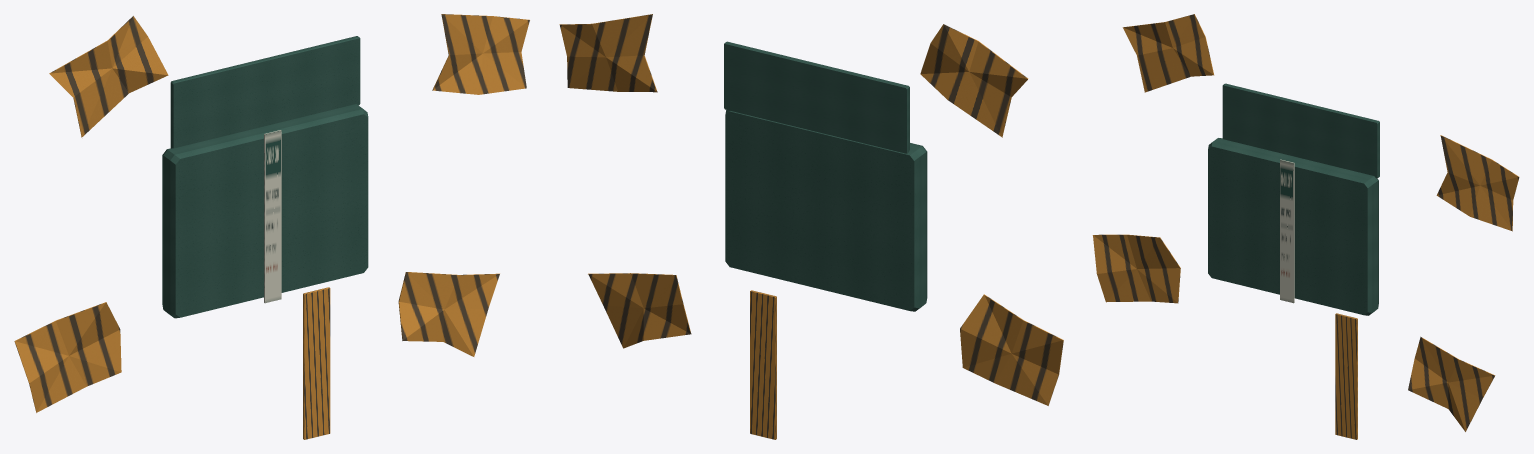
The model's file is PZ_DST_05_Flattened_Cardboard_And_Paper.glb.
The picture shows the model from 3 angles, left to right: view 1: azimuth 30°, elevation 25°; view 2: azimuth 150°, elevation 25°; view 3: azimuth 330°, elevation 25°; orthographic projection. The views are drawn at different scales.
Parts seen in each view (by area): view 1: LITTER_Cardboard_SquashedShippingBox_Base, LITTER_Cardboard_SeparatedTornTopFlap, LITTER_Paper_04_CrumpledFoldedSheet, LITTER_Paper_02_CrumpledFoldedSheet, LITTER_Paper_03_CrumpledFoldedSheet, LITTER_Paper_01_CrumpledFoldedSheet, LITTER_Receipt_ThinRibbon, LITTER_Cardboard_DarkPrintedPackingTape; view 2: LITTER_Cardboard_SquashedShippingBox_Base, LITTER_Cardboard_SeparatedTornTopFlap, LITTER_Paper_04_CrumpledFoldedSheet, LITTER_Paper_02_CrumpledFoldedSheet, LITTER_Paper_03_CrumpledFoldedSheet, LITTER_Paper_01_CrumpledFoldedSheet, LITTER_Receipt_ThinRibbon; view 3: LITTER_Cardboard_SquashedShippingBox_Base, LITTER_Cardboard_SeparatedTornTopFlap, LITTER_Paper_04_CrumpledFoldedSheet, LITTER_Paper_03_CrumpledFoldedSheet, LITTER_Paper_02_CrumpledFoldedSheet, LITTER_Paper_01_CrumpledFoldedSheet, LITTER_Receipt_ThinRibbon, LITTER_Cardboard_DarkPrintedPackingTape.
Boxes of the visible parts, x1,y1,x2,y2 form: LITTER_Cardboard_SquashedShippingBox_Base: (162,104,368,318); LITTER_Cardboard_SeparatedTornTopFlap: (170,36,360,148); LITTER_Paper_04_CrumpledFoldedSheet: (14,302,121,412); LITTER_Paper_02_CrumpledFoldedSheet: (49,16,168,137); LITTER_Paper_03_CrumpledFoldedSheet: (432,14,529,94); LITTER_Paper_01_CrumpledFoldedSheet: (398,272,499,356); LITTER_Receipt_ThinRibbon: (303,287,330,439); LITTER_Cardboard_DarkPrintedPackingTape: (264,130,281,303); LITTER_Cardboard_SquashedShippingBox_Base: (725,110,927,311); LITTER_Cardboard_SeparatedTornTopFlap: (724,41,909,153); LITTER_Paper_04_CrumpledFoldedSheet: (960,294,1063,405); LITTER_Paper_02_CrumpledFoldedSheet: (920,24,1028,137); LITTER_Paper_03_CrumpledFoldedSheet: (559,14,657,92); LITTER_Paper_01_CrumpledFoldedSheet: (588,273,691,348); LITTER_Receipt_ThinRibbon: (750,290,776,439); LITTER_Cardboard_SquashedShippingBox_Base: (1208,138,1378,315); LITTER_Cardboard_SeparatedTornTopFlap: (1222,83,1379,178); LITTER_Paper_04_CrumpledFoldedSheet: (1092,234,1180,303); LITTER_Paper_03_CrumpledFoldedSheet: (1436,135,1519,231); LITTER_Paper_02_CrumpledFoldedSheet: (1122,14,1214,92); LITTER_Paper_01_CrumpledFoldedSheet: (1408,336,1495,431); LITTER_Receipt_ThinRibbon: (1335,313,1357,439); LITTER_Cardboard_DarkPrintedPackingTape: (1280,159,1294,303).
Bounding box in the file's own units: 1.07 × 0.9244 × 0.054.
Materials: 1 (1 with a texture image).
